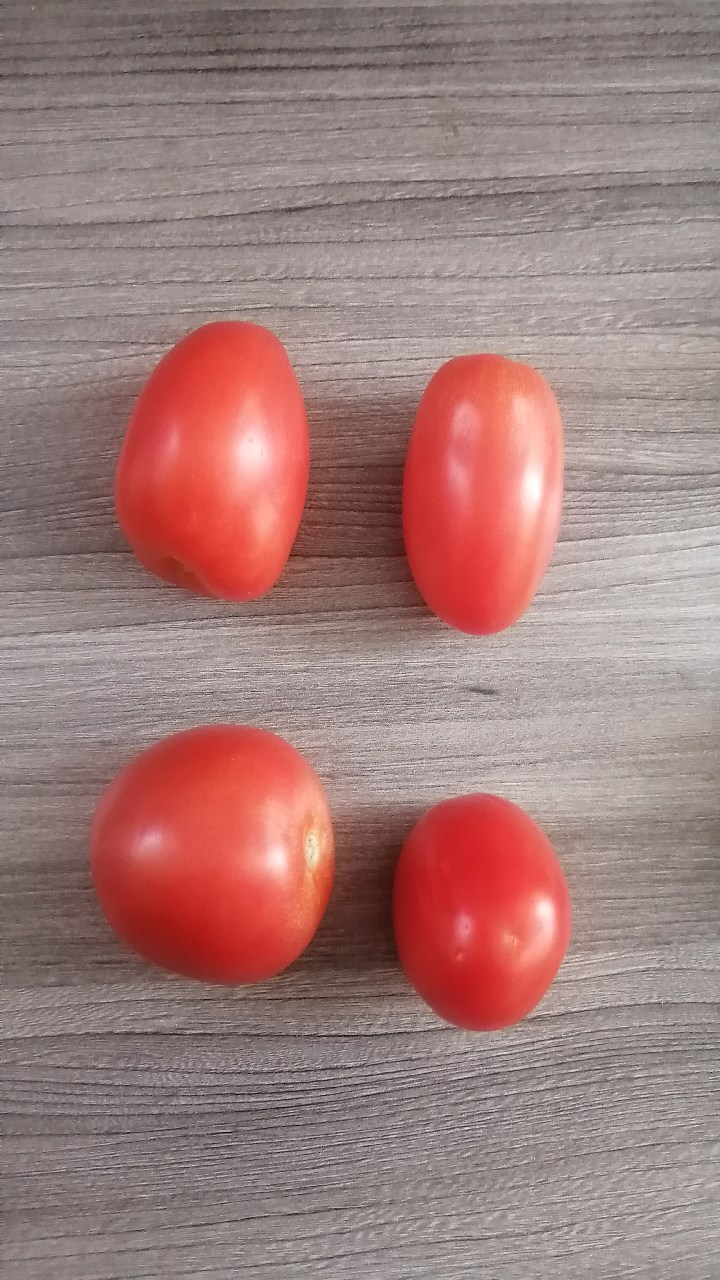tomateRojo: (69, 705, 349, 986), (384, 329, 603, 665), (89, 303, 323, 614), (375, 771, 597, 1045)
